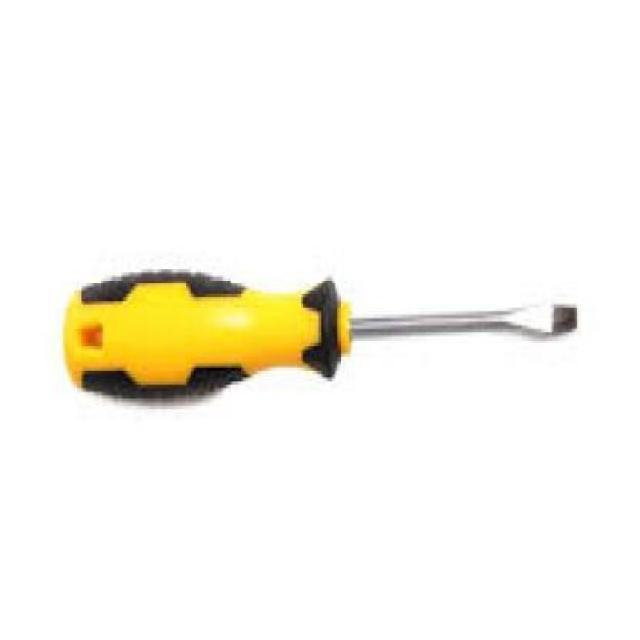screwdriver: (64, 258, 576, 398)
